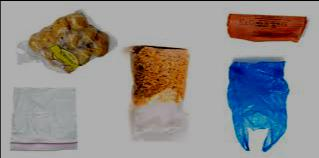Plastic: (225, 57, 288, 153)
